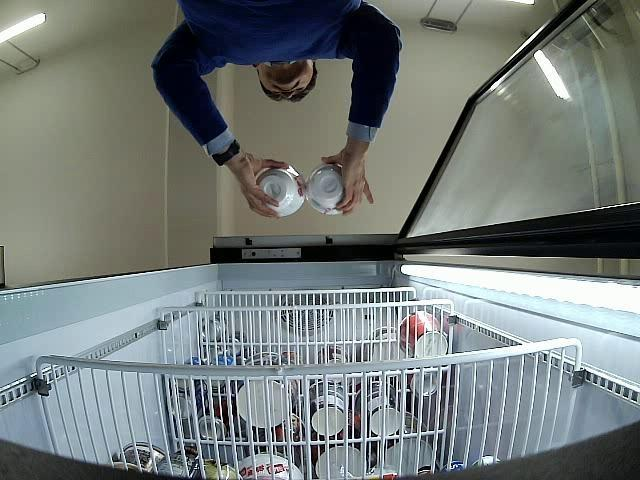09_yukGaeJang: (255, 168, 305, 217), (306, 164, 345, 214)
